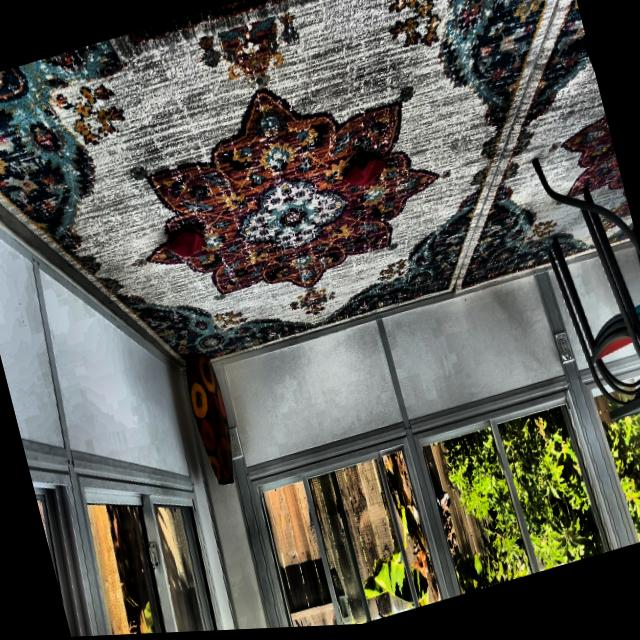red-bean-bag: (334, 151, 390, 197), (164, 226, 207, 261)
